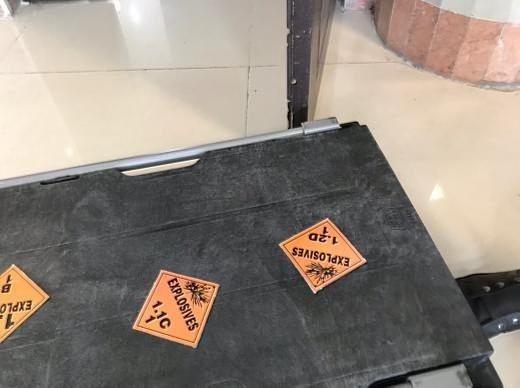explosive: (131, 269, 220, 349), (277, 218, 367, 296), (1, 262, 51, 348)
